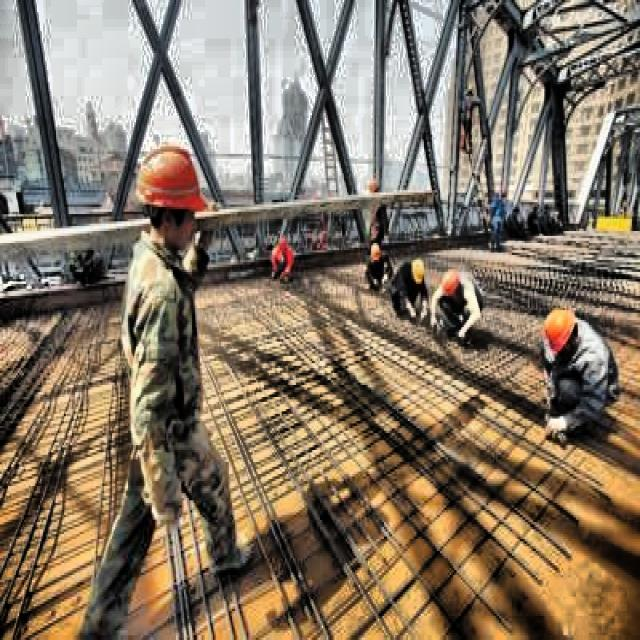helmet: (134, 135, 210, 255), (542, 306, 580, 356), (437, 267, 462, 303), (408, 255, 427, 289)
